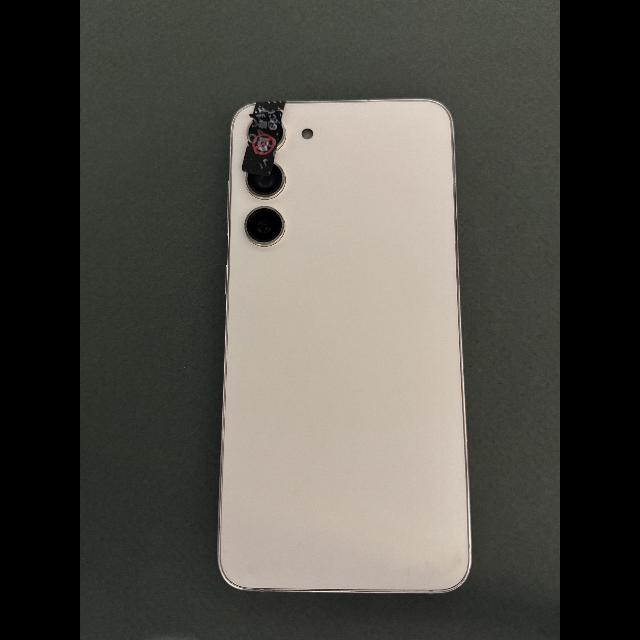lens: (244, 206, 284, 245), (245, 164, 284, 197), (275, 123, 284, 149)
phone: (218, 99, 471, 593)
sticker: (242, 101, 286, 177)
